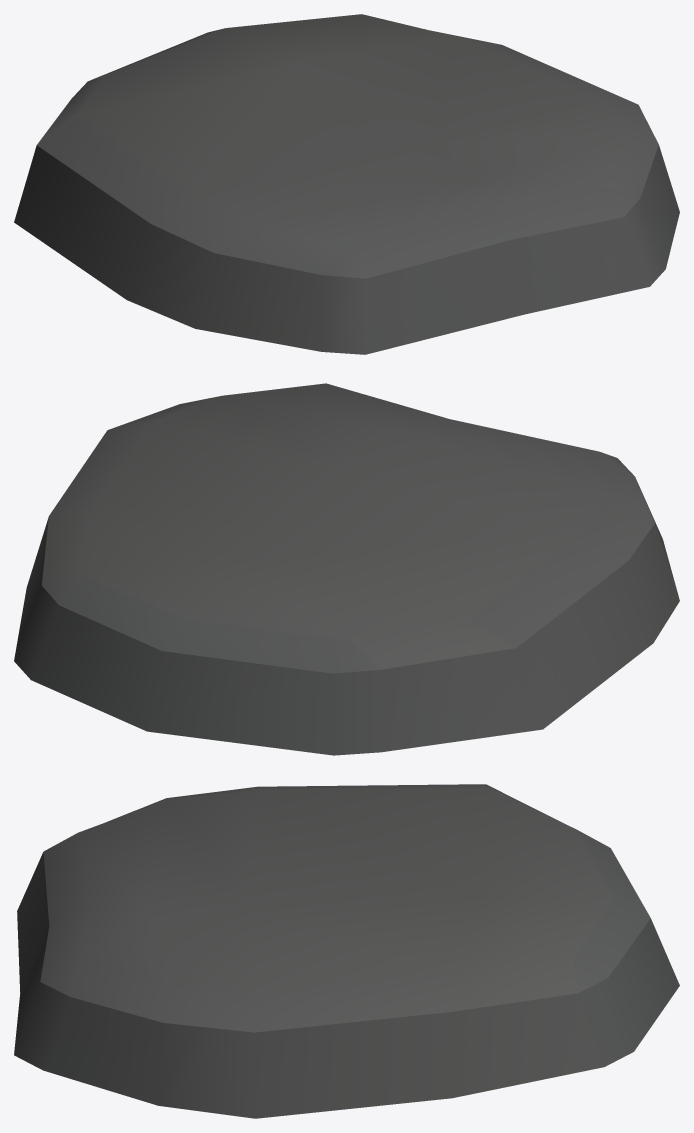
Rendered from Brick_4_1.glb.
3 views of the same model, one above another, from view 1: azimuth 30°, elevation 25°; view 2: azimuth 150°, elevation 25°; view 3: azimuth 270°, elevation 25° (orthographic). The views are drawn at different scales.
Visible parts, largest first — view 1: Brick_4_1; view 2: Brick_4_1; view 3: Brick_4_1.
Part boxes in pixels (box(x1,y1,x2,y2)): Brick_4_1: box(14, 14, 679, 354); Brick_4_1: box(14, 383, 679, 755); Brick_4_1: box(14, 784, 679, 1118).
Bounding box in the file's own units: 0.4222 × 0.0674 × 0.4356.
Materials: 1 (1 with a texture image).
